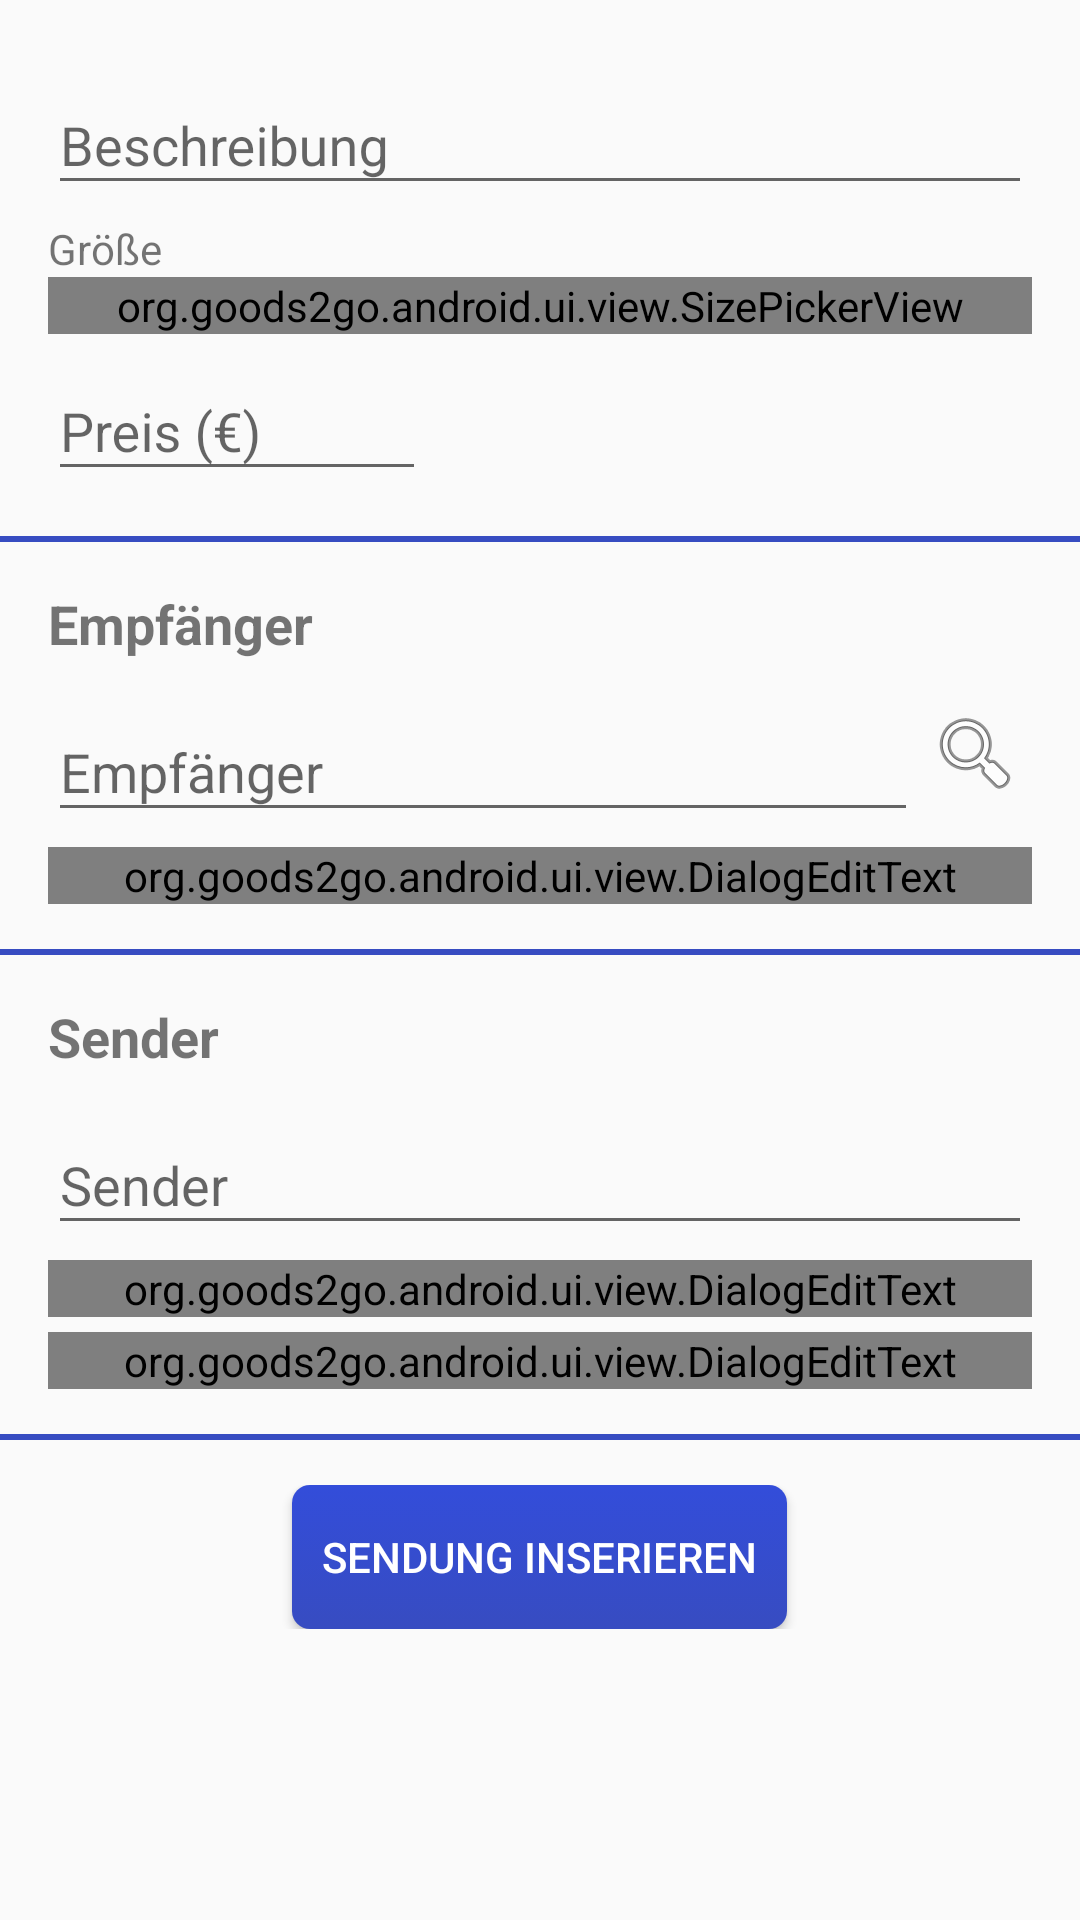

Icon click points for this 1080px×1920px phone screenshot, format point (x, y):
search: point (975, 753)
